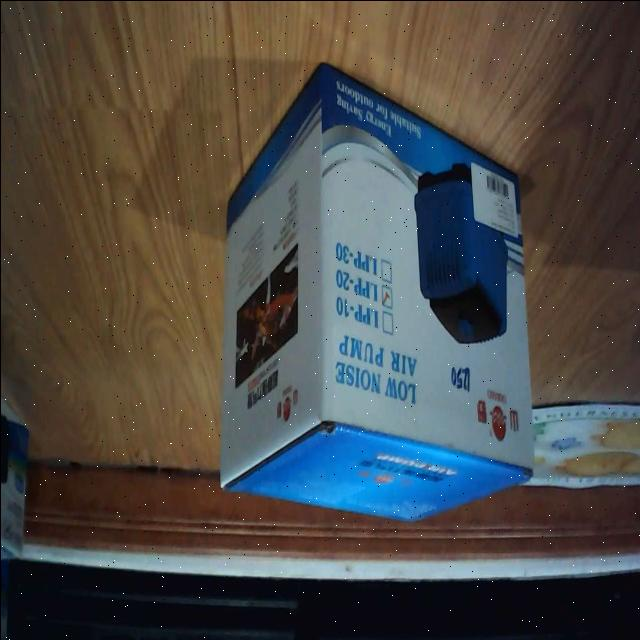YAMANO_LPP_20: (210, 50, 540, 552)
